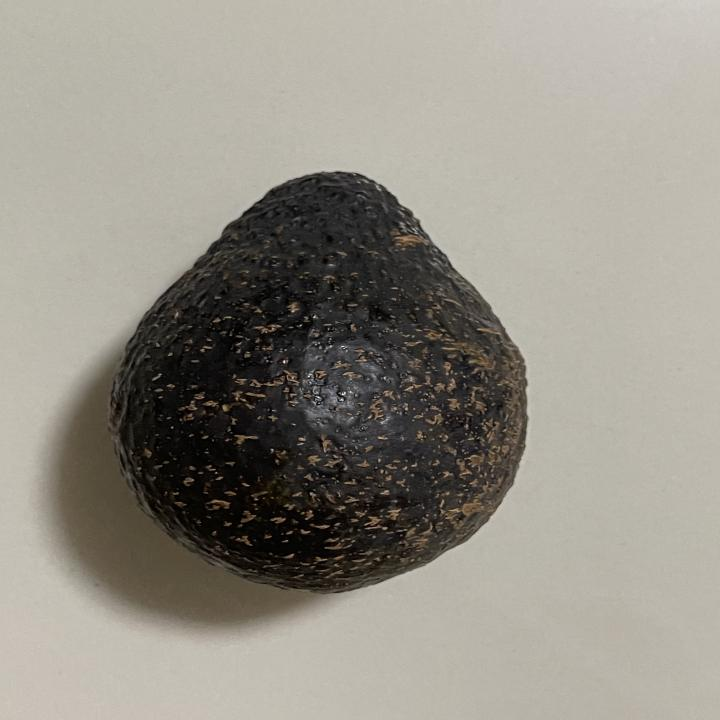Level3: (100, 161, 543, 602)
